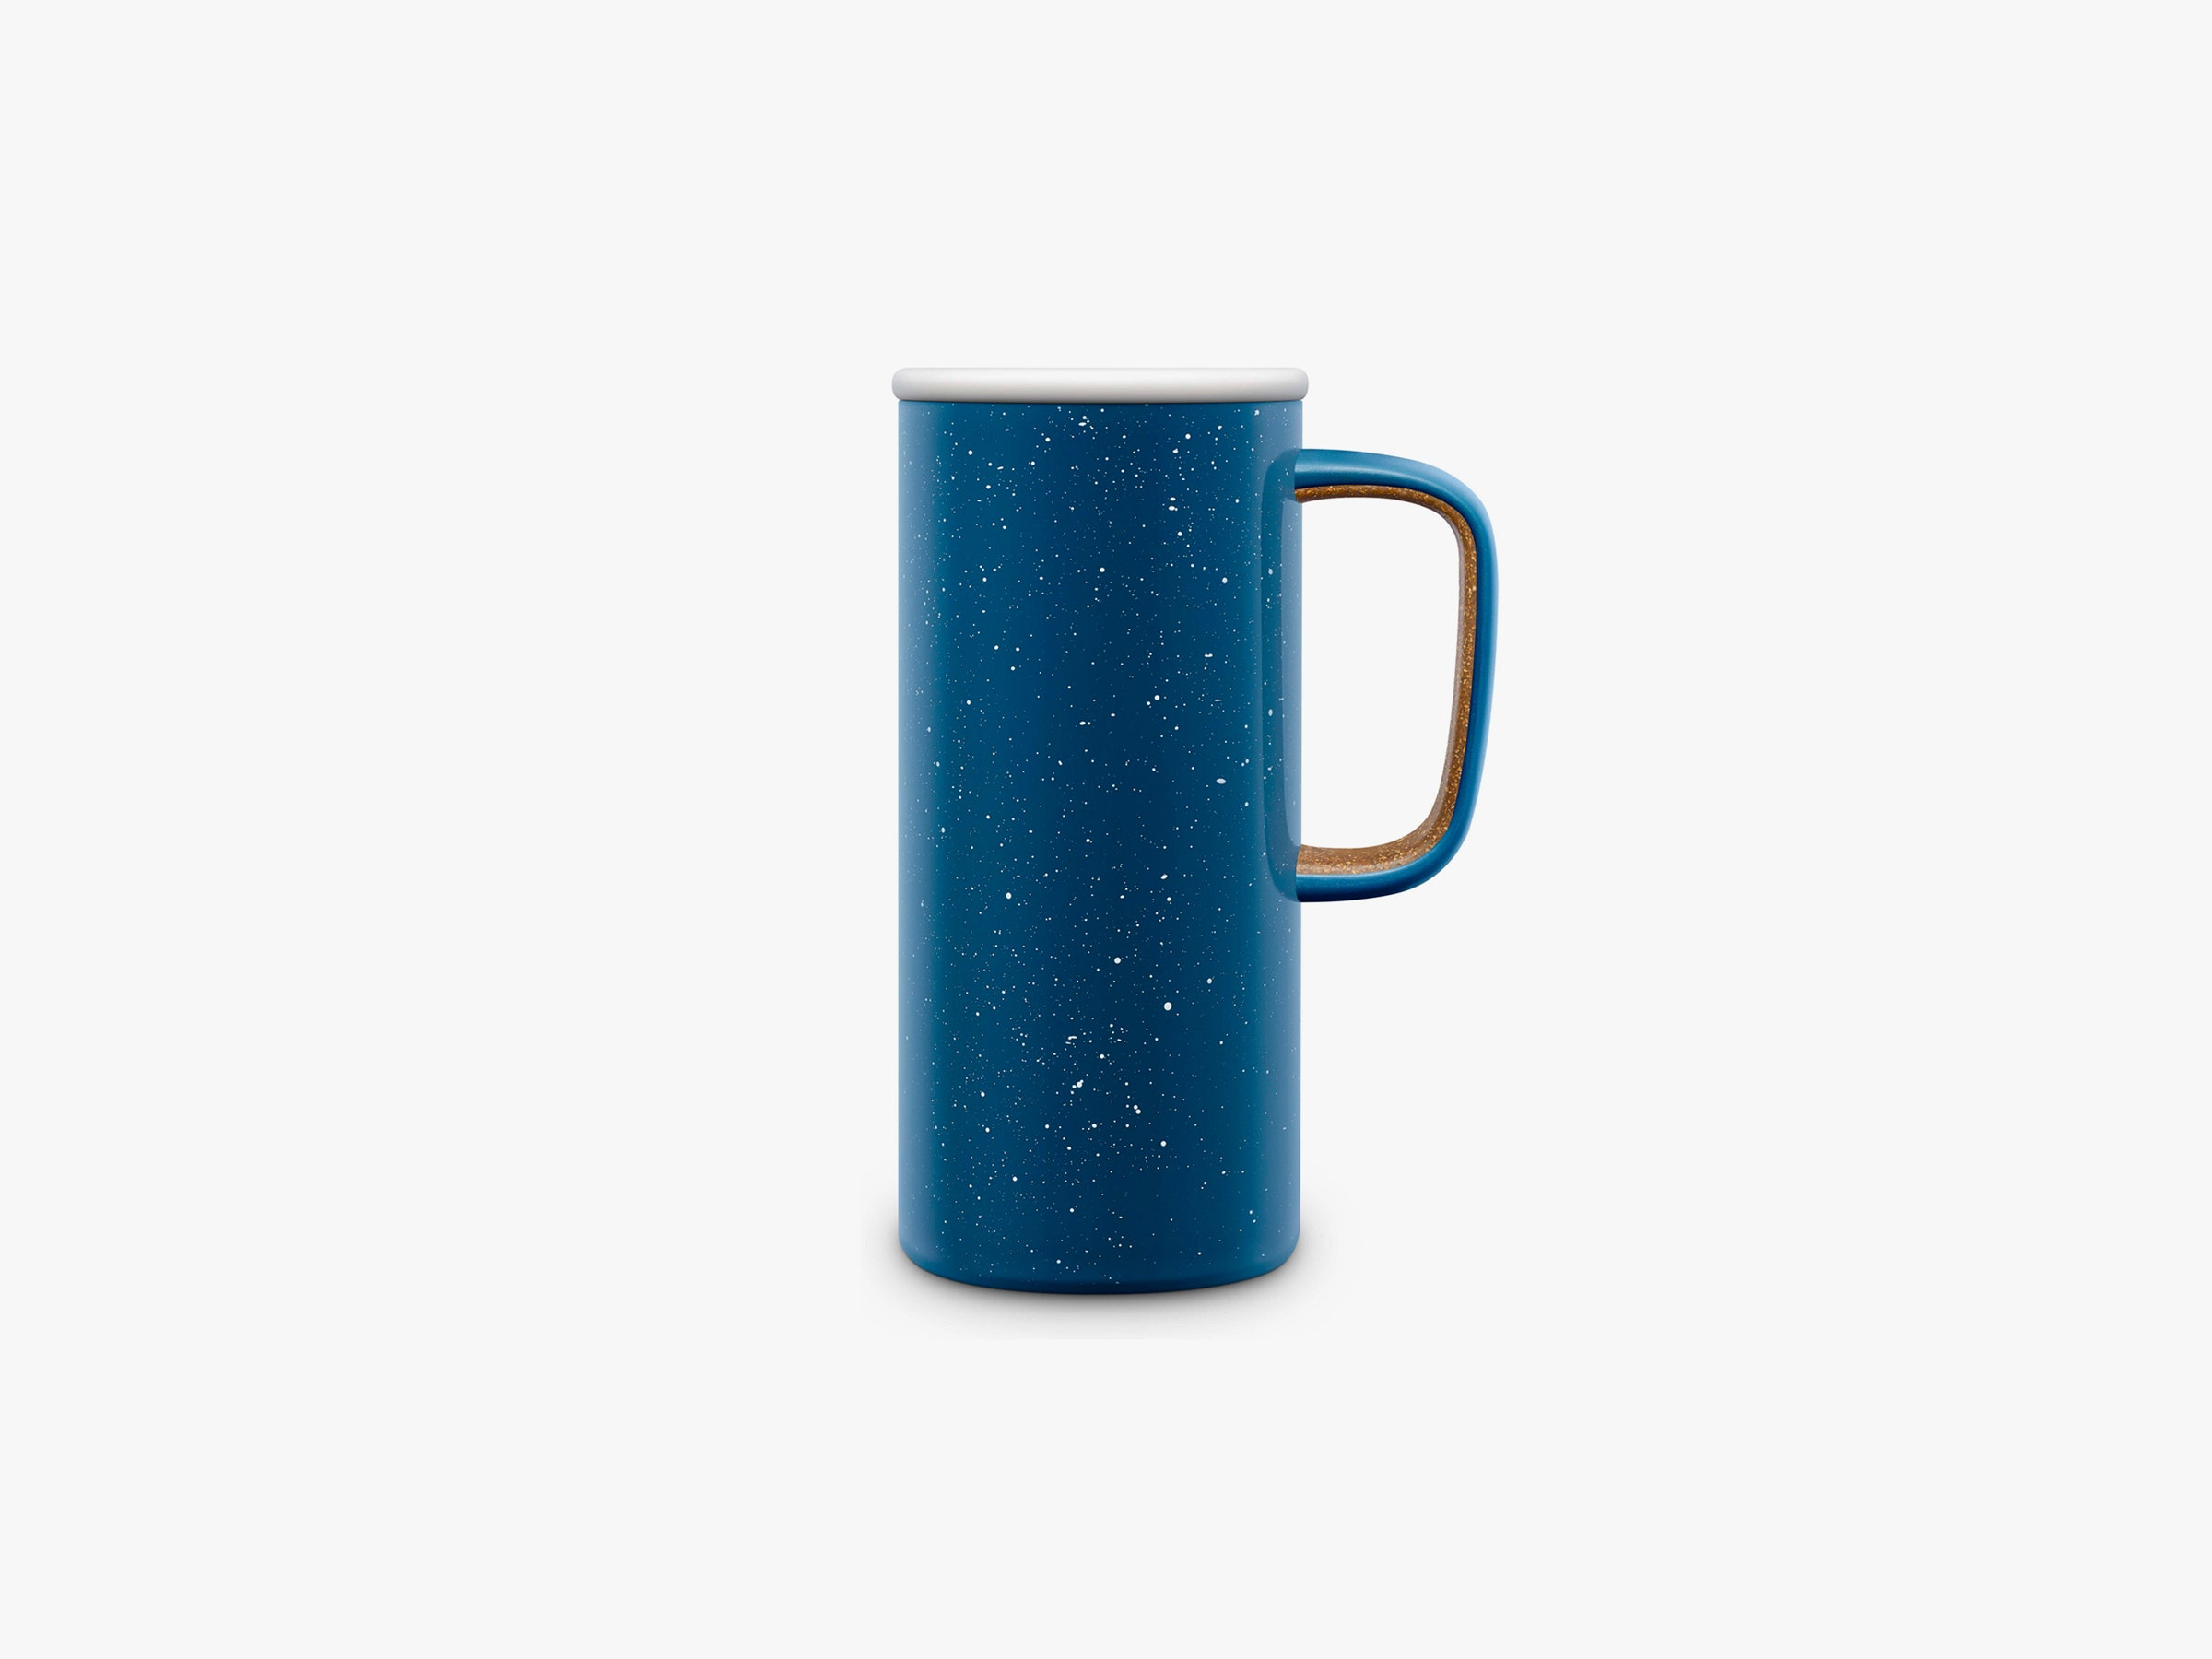cup: (862, 335, 1512, 1349)
